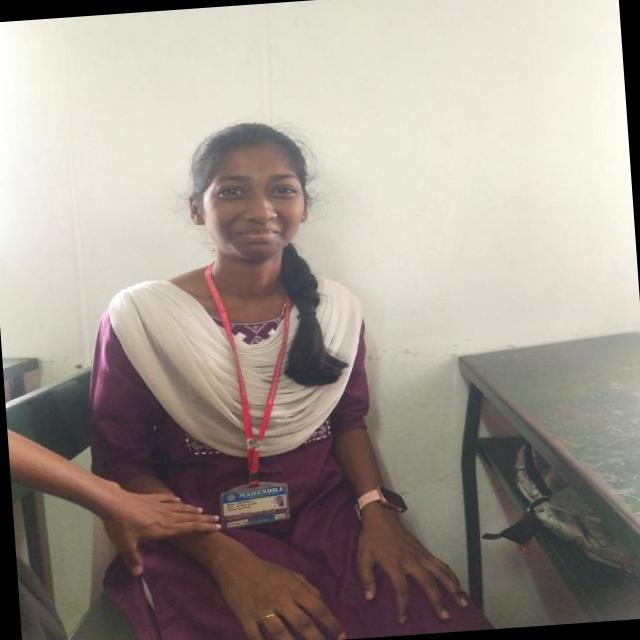id_card: (205, 261, 304, 530)
